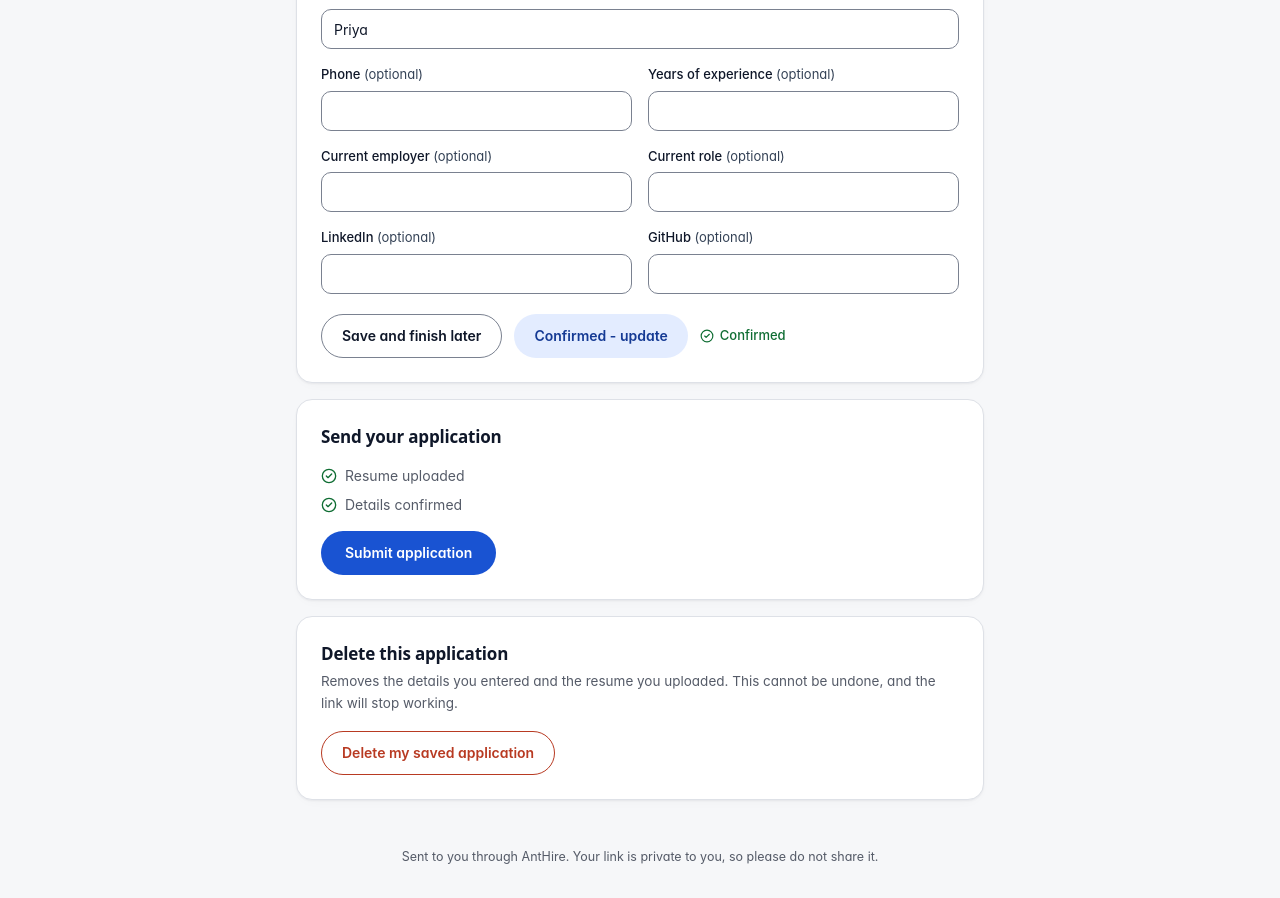
submitting › says so when this email had already applied
(page scrolled)
Click the button "Submit application". click: [409, 553]
box: [321,531,496,575]
(page scrolled)
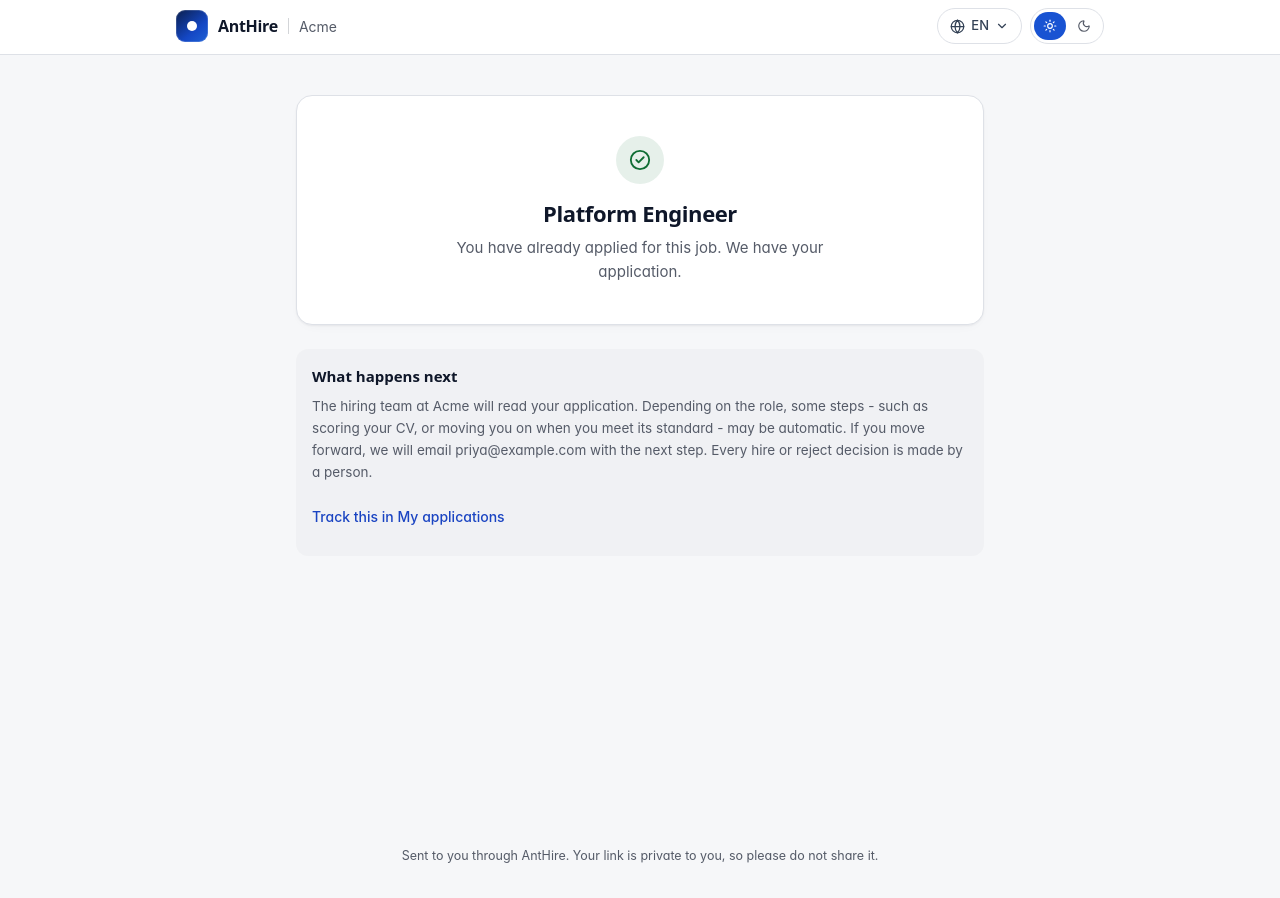
expect the text "You have already applied for this job. We have your application." is shown: met, box [456,238,824,281]
